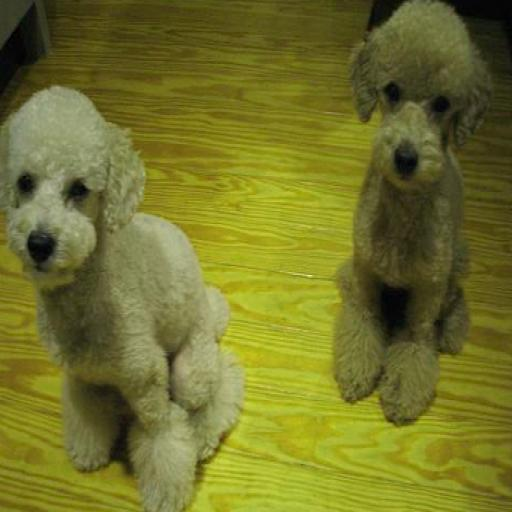dog_face: (348, 0, 494, 198), (0, 91, 137, 276)
